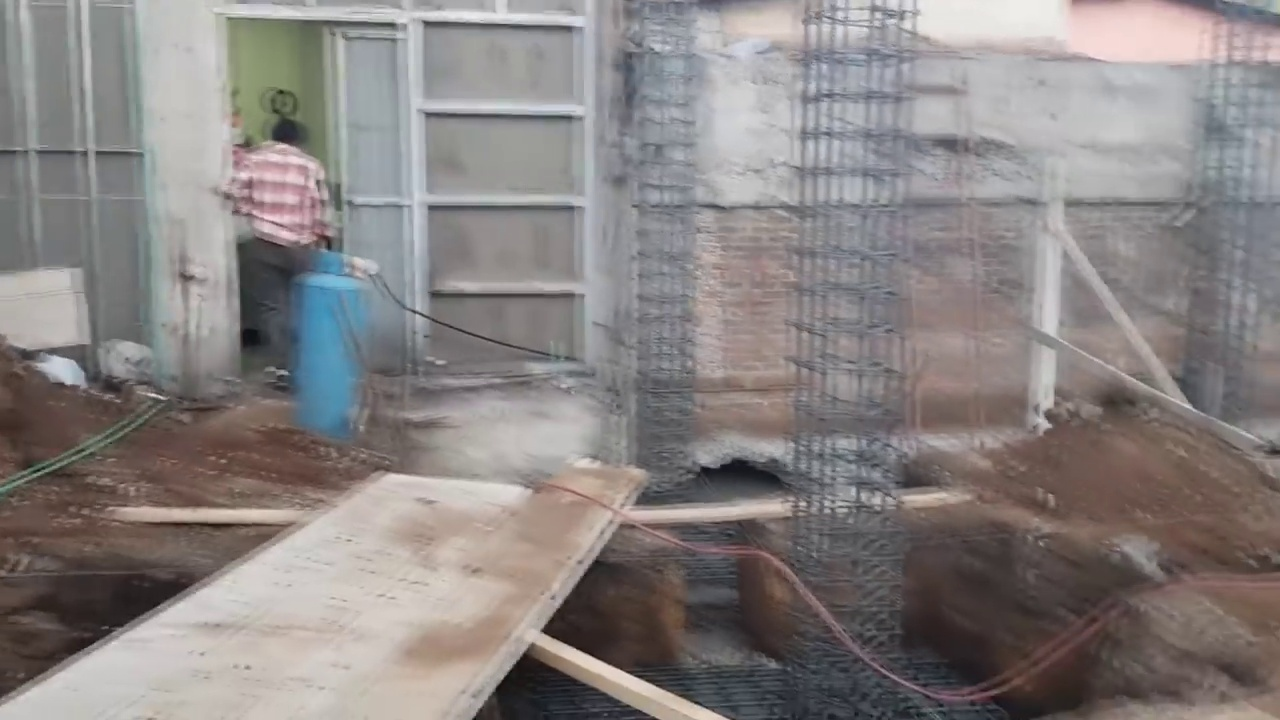helmet-off: (259, 114, 315, 153)
person: (228, 95, 346, 379)
